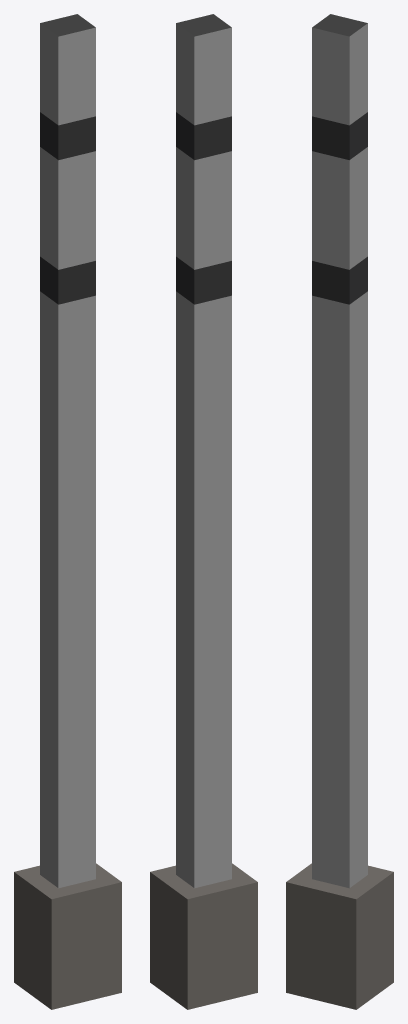
Rendered from signpost1.FBX.
The picture shows the model from 3 angles, left to right: view 1: azimuth 30°, elevation 25°; view 2: azimuth 210°, elevation 25°; view 3: azimuth 330°, elevation 25°; orthographic projection.
Visible parts, largest first — view 1: signpost1; view 2: signpost1; view 3: signpost1.
Boxes of the visible parts, x1,y1,x2,y2 form: signpost1: (14,14,121,1009); signpost1: (150,14,257,1009); signpost1: (286,14,393,1009).
Bounding box in the file's own units: 0.6096 × 7.96 × 0.562.
